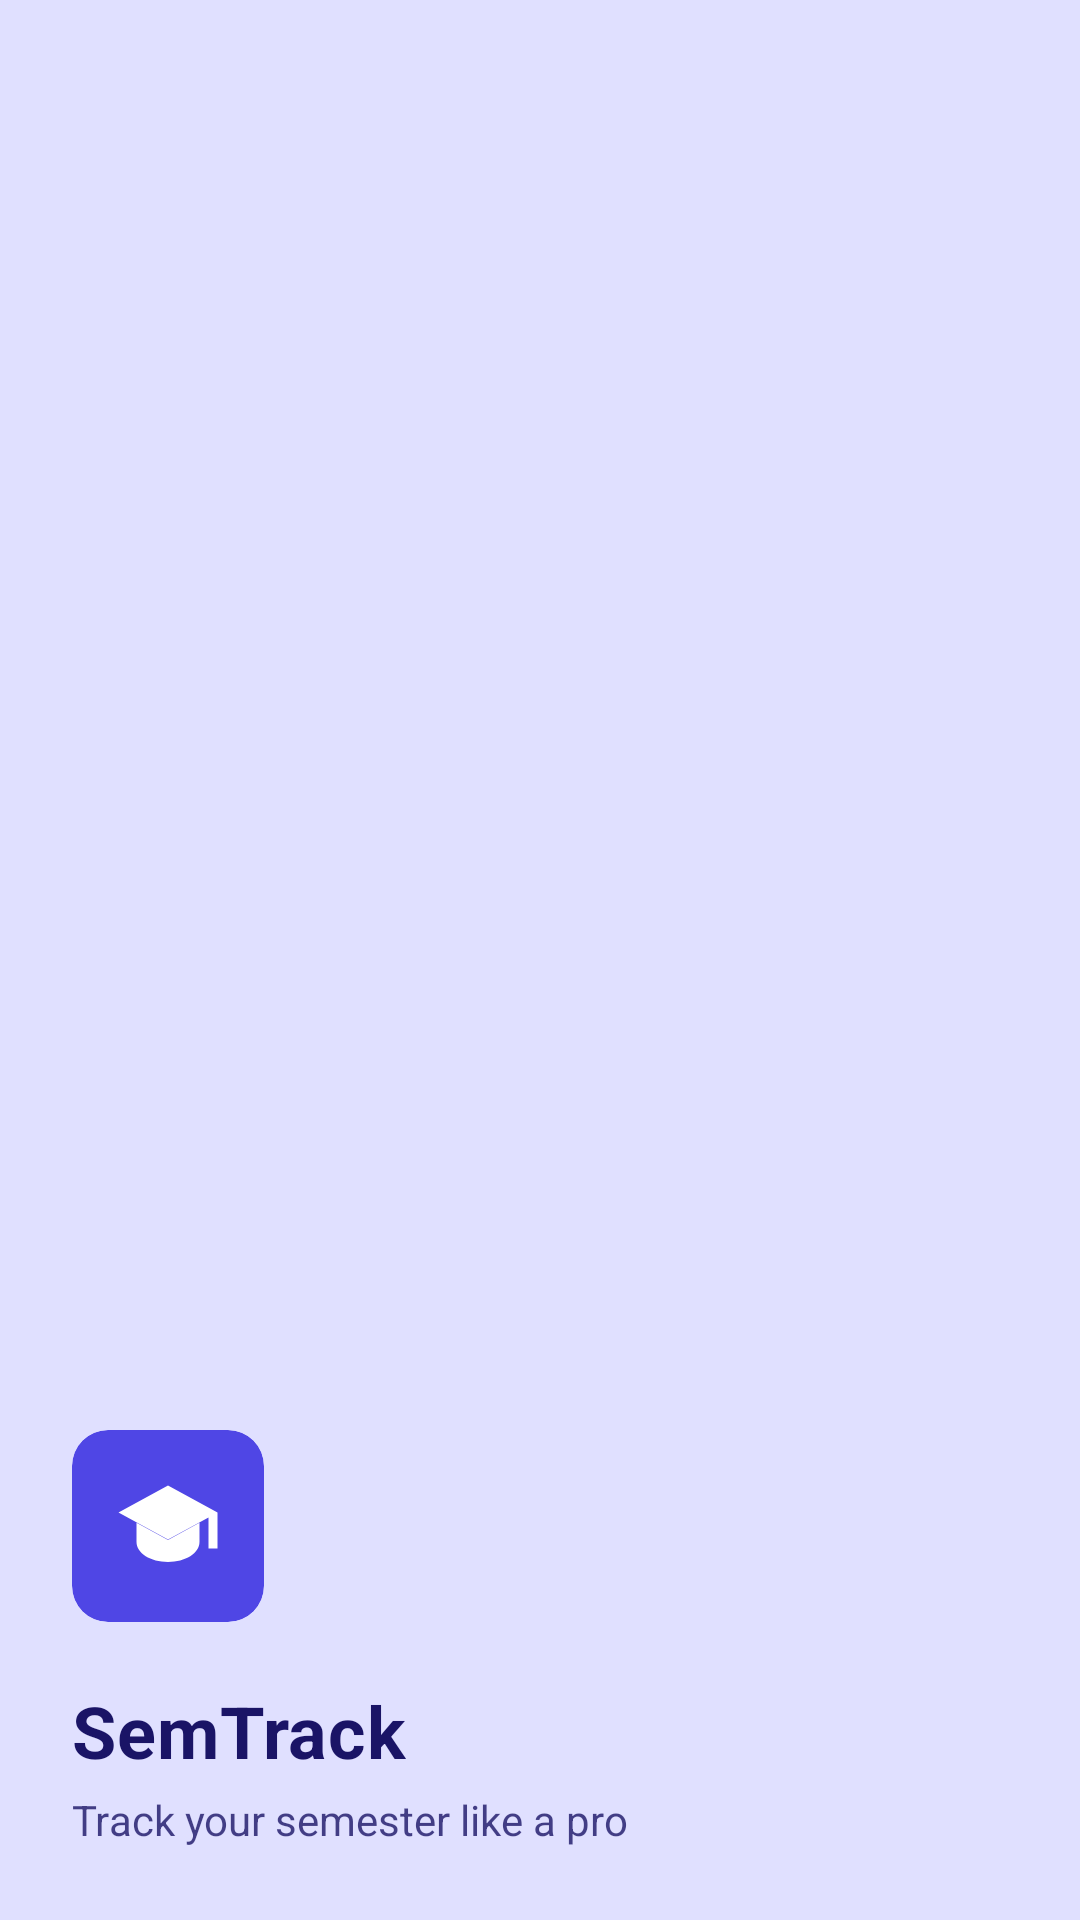

Where to tap for icons on this 1080px×1920px app screen, as point (x, y):
App Icon: point (168, 1523)
